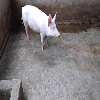heo: (18, 3, 62, 51)
